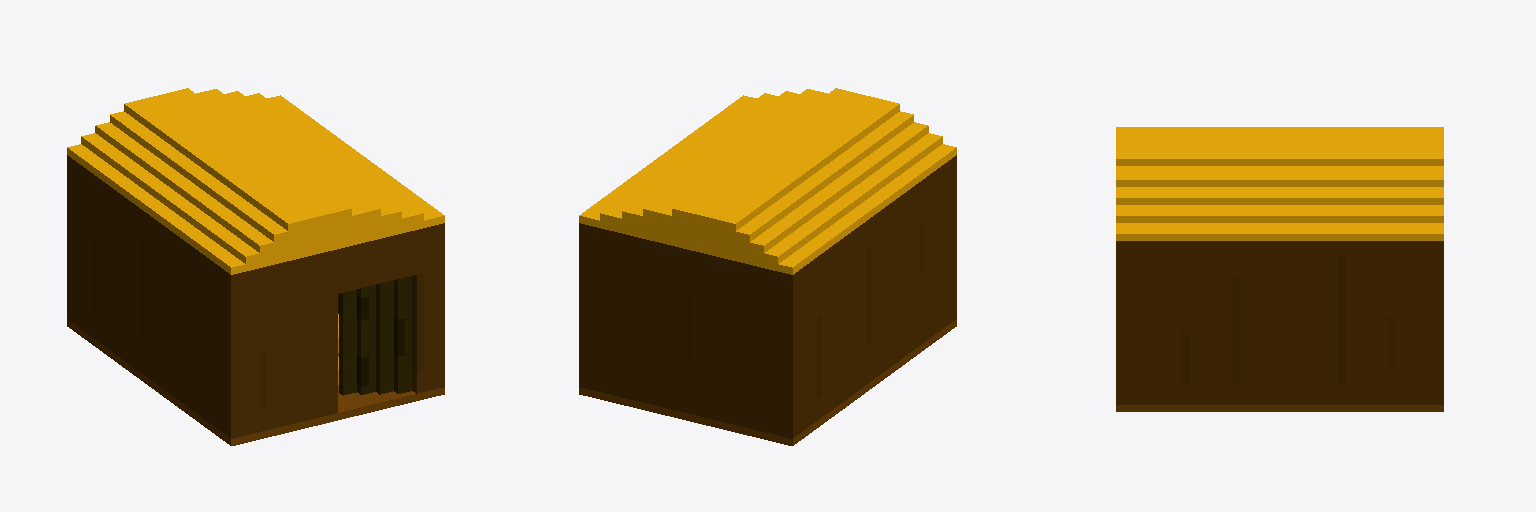
The picture shows the model from 3 angles: view 1: azimuth 30°, elevation 25°; view 2: azimuth 150°, elevation 25°; view 3: azimuth 270°, elevation 25°; orthographic projection.
Parts seen in each view (by area): view 1: object 1; view 2: object 1; view 3: object 1.
Part boxes in pixels (x1,y1,x2,y2): object 1: (67,88,444,445); object 1: (579,88,956,445); object 1: (1116,127,1443,411).
Size of the model in its own units: 3 by 2.8 by 4.
1 materials, 1 textured.